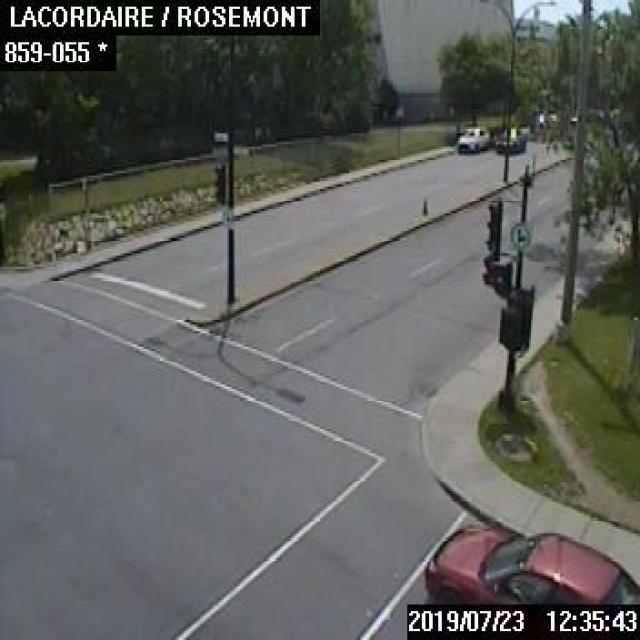vehicle: (422, 522, 638, 602), (494, 126, 526, 151), (456, 125, 488, 149)
